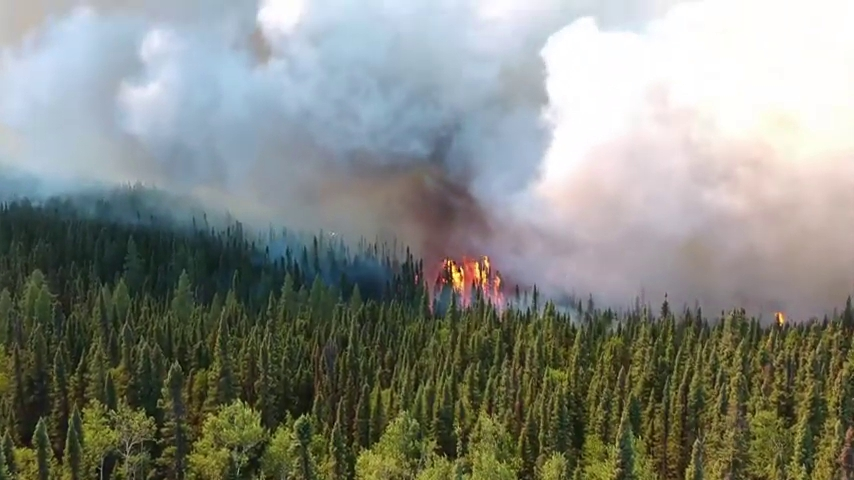forest_fire: (436, 256, 502, 304)
